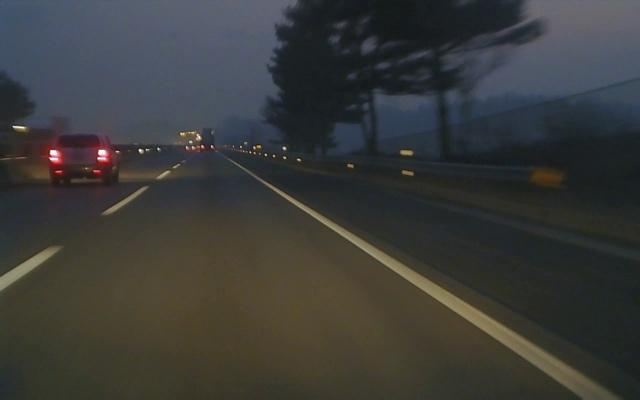lane: (225, 156, 628, 400), (0, 159, 191, 294)
